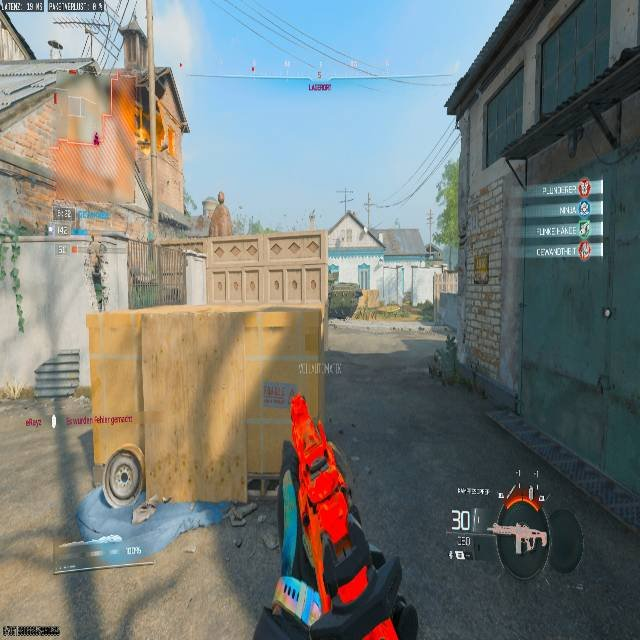player: (89, 254, 108, 310)
